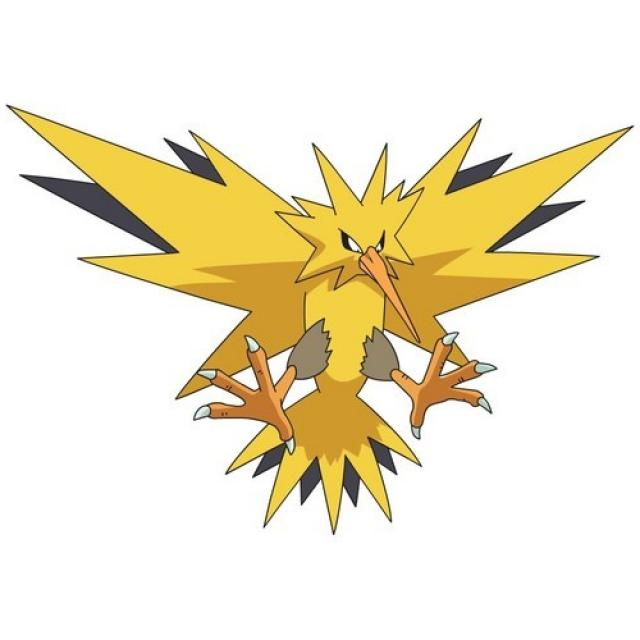Zapdos: (168, 120, 548, 518)
